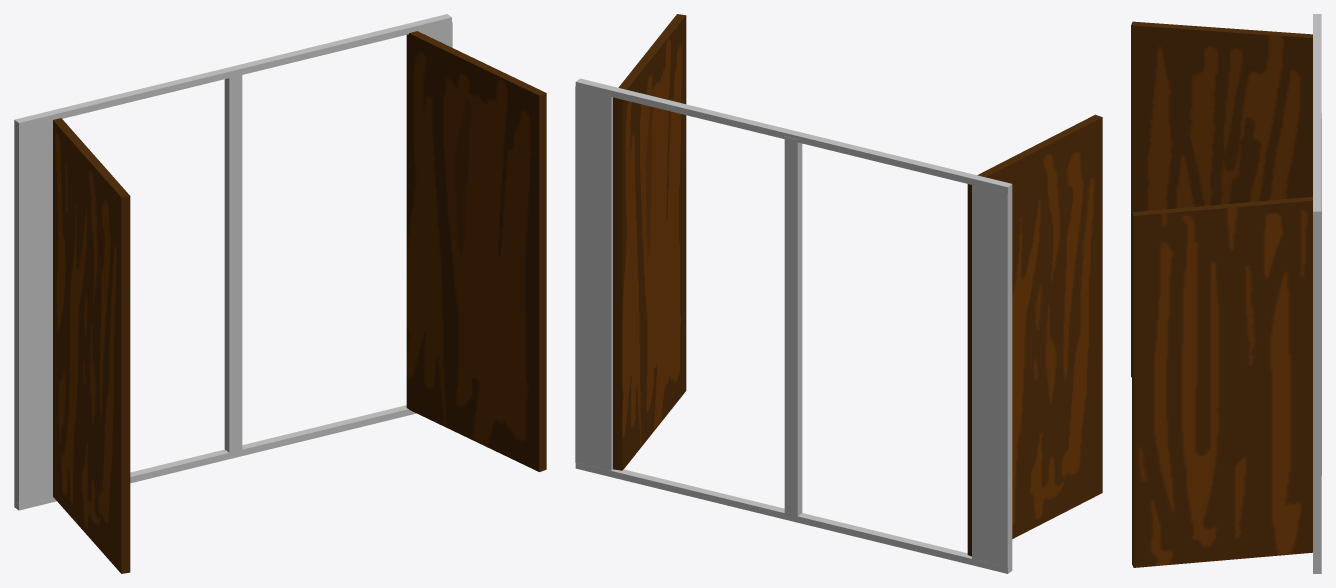
The model's file is Level_2_Door_Textured.fbx.
3 renders of one model, left to right at view 1: azimuth 30°, elevation 25°; view 2: azimuth 150°, elevation 25°; view 3: azimuth 270°, elevation 25°, orthographic. The views are drawn at different scales.
Parts seen in each view (by area): view 1: polySurface16, polySurface12; view 2: polySurface16, polySurface12; view 3: polySurface16, polySurface12.
Boxes of the visible parts, left/top/right/bottom form: polySurface16: left=53, top=31, right=546, bottom=573; polySurface12: left=14, top=14, right=452, bottom=510; polySurface16: left=613, top=14, right=1102, bottom=556; polySurface12: left=575, top=78, right=1012, bottom=573; polySurface16: left=1131, top=21, right=1312, bottom=567; polySurface12: left=1313, top=14, right=1321, bottom=573.
Size of the model in its own units: 12.04 by 10.28 by 4.91.
